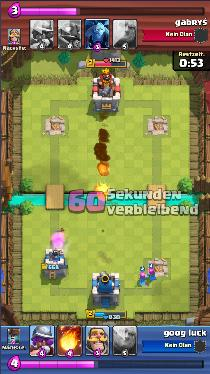ally_archer: (137, 271, 148, 286), (148, 266, 156, 282)
enemy_fireball: (93, 182, 109, 201)
